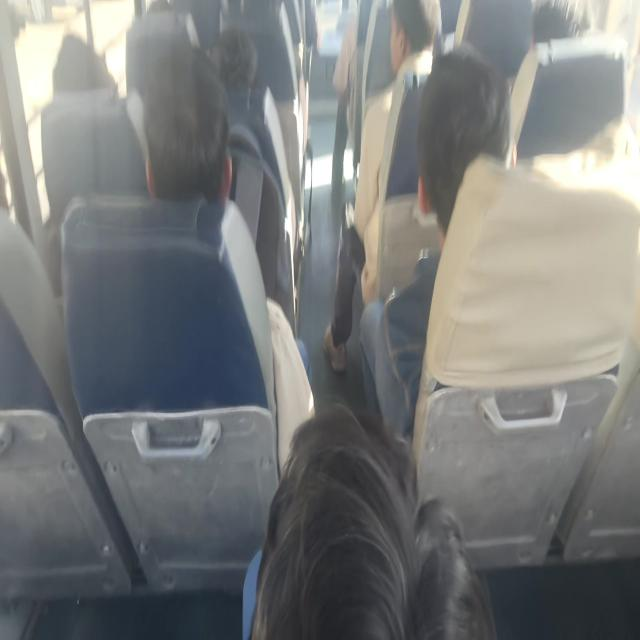person: (268, 381, 518, 640), (416, 55, 526, 240), (150, 82, 243, 230), (34, 26, 134, 120), (371, 0, 449, 98), (194, 17, 260, 103), (528, 0, 590, 62)
